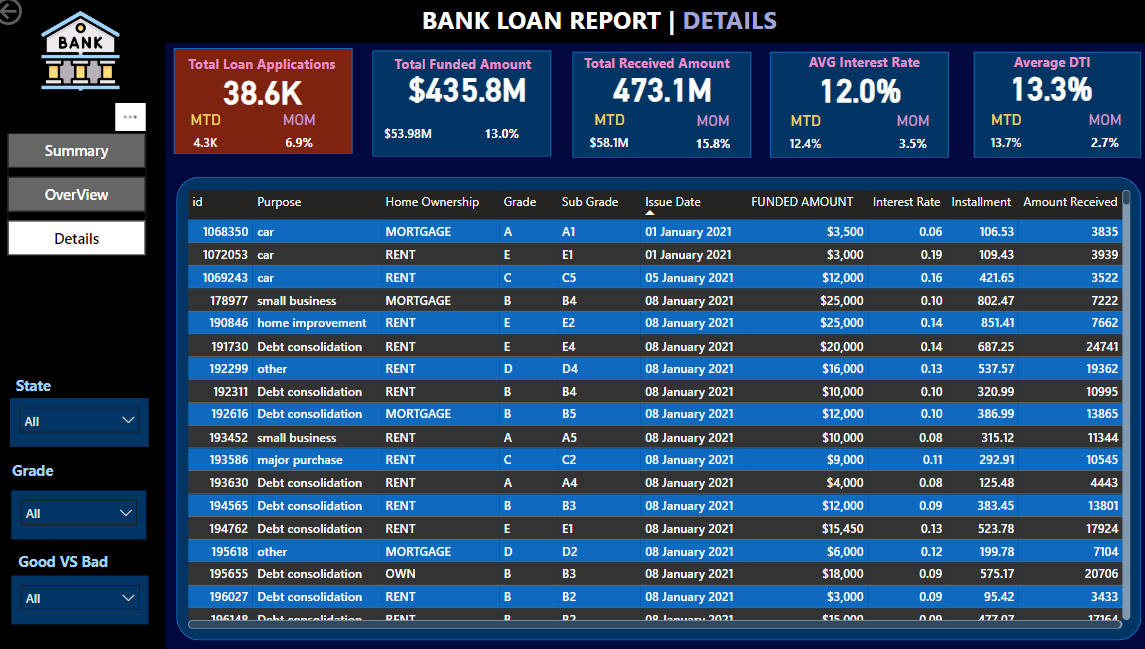

Layout of this report page (visuals, bound fields, positions):
{"tool":"powerbi","page":{"name":"Details","canvas":[1280,720],"ordinal":2},"visuals":[{"type":"shape","box":[0,0,1280.3,54.9],"z":0},{"type":"card","fields":{"Values":["Date_Table.Average DTI"]},"box":[1089.5,52,144.9,99.6],"z":0,"group":"g2"},{"type":"card","fields":{"Values":["Date_Table.Total Amount Received"]},"box":[641.6,52.9,189,98.6],"z":0,"group":"g3"},{"type":"card","fields":{"Values":["Date_Table.TOTAL FUNDED AMOUNT"]},"box":[428.6,53.6,189,98.6],"z":0,"group":"g5"},{"type":"card","fields":{"Values":["Date_Table.AVG Interest RAte"]},"box":[858.5,54.8,189,98.6],"z":0,"group":"g4"},{"type":"card","fields":{"Values":["financial_loan.Total_Loan_Applications"]},"box":[204,57.5,189,98.6],"z":0,"group":"g1"},{"type":"slicer","fields":{"Values":["financial_loan.address_state"]},"box":[21.9,443.6,152,53.4],"z":0,"group":"g11"},{"type":"slicer","fields":{"Values":["financial_loan.grade"]},"box":[23.3,545,147.9,53.4],"z":0,"group":"g10"},{"type":"textbox","box":[26,606.6,299.9,31.5],"z":0,"group":"g9"},{"type":"textbox","box":[857.7,60.1,201.3,49.3],"z":1000,"group":"g4"},{"type":"textbox","box":[1067.9,60.2,154.7,50.7],"z":1000,"group":"g2"},{"type":"textbox","box":[629.6,60.7,201.3,49.3],"z":1000,"group":"g3"},{"type":"textbox","box":[197.2,63,201.3,49.3],"z":1000,"group":"g1"},{"type":"textbox","box":[438.1,63.8,201.3,49.3],"z":1000,"group":"g5"},{"type":"shape","box":[204,201.3,1057.1,508],"z":1000},{"type":"textbox","box":[23.3,413.5,110.9,49.3],"z":1000,"group":"g11"},{"type":"textbox","box":[19.2,506.6,110.9,49.3],"z":1000,"group":"g12"},{"type":"slicer","fields":{"Values":["financial_loan.Good VS Bad Loan"]},"box":[23.3,638.1,150.6,53.4],"z":1000,"group":"g9"},{"type":"shape","box":[0,54.9,192,665],"z":2000},{"type":"card","title":"MTD","fields":{"Values":["Date_Table.MTD Amount Received"]},"box":[576.5,128.2,204,54.8],"z":2000,"group":"g3"},{"type":"card","title":"MTD","fields":{"Values":["Date_Table.MTD Avg DTI"]},"box":[1035,128.6,156.1,56.1],"z":2000,"group":"g2"},{"type":"card","title":"MTD","fields":{"Values":["Date_Table.MTD_Loan_Applications"]},"box":[134.2,128.7,204,54.8],"z":2000,"group":"g1"},{"type":"card","title":"MTD","fields":{"Values":["Date_Table.MTD FUnded Amount"]},"box":[356,128.9,204,54.8],"z":2000,"group":"g5"},{"type":"card","title":"MTD","fields":{"Values":["Date_Table.MTD Avg Interest rate"]},"box":[791.4,130.7,204,54.8],"z":2000,"group":"g4"},{"type":"textbox","box":[440.9,5.5,453.2,49.3],"z":3000},{"type":"card","title":"MOM","fields":{"Values":["Date_Table.MOM Applications"]},"box":[236.9,128.7,204,54.8],"z":3000,"group":"g1"},{"type":"card","title":"MOM","fields":{"Values":["Date_Table.MOM Funded Amount"]},"box":[458.7,128.9,204,54.8],"z":3000,"group":"g5"},{"type":"shape","box":[201.3,60.2,195.8,116.4],"z":4000},{"type":"card","title":"MOM","fields":{"Values":["Date_Table.MOM Avg DTI"]},"box":[1163.7,128.6,115,56.1],"z":4000,"group":"g2"},{"type":"card","title":"MOM","fields":{"Values":["Date_Table.MOM Amount Received"]},"box":[689.5,129.6,204,54.8],"z":4000,"group":"g3"},{"type":"card","title":"MOM","fields":{"Values":["Date_Table.MOM Avg int rate"]},"box":[909.6,130.7,204,54.8],"z":4000,"group":"g4"},{"type":"group","id":"g1","title":"Group 1","box":[134.2,57.5,306.7,126],"z":5000},{"type":"shape","box":[638.1,63.4,195.8,116.4],"z":5500,"group":"g6"},{"type":"shape","box":[1077.8,64.2,183.5,116.4],"z":5500,"group":"g8"},{"type":"shape","box":[853.8,64.8,195.8,116.4],"z":5500,"group":"g7"},{"type":"group","id":"g2","title":"Group 1","box":[1035,52,243.7,132.8],"z":6000,"group":"g8"},{"type":"group","id":"g3","title":"Group 1","box":[576.5,52.9,317,131.5],"z":6000,"group":"g6"},{"type":"group","id":"g4","title":"Group 1","box":[791.4,54.8,322.2,130.7],"z":6000,"group":"g7"},{"type":"shape","box":[419,63,195.8,116.4],"z":6000},{"type":"group","id":"g5","title":"Group 1","box":[356,53.6,306.7,130.1],"z":7000},{"type":"group","id":"g6","title":"Group 2","box":[576.5,52.9,317,131.5],"z":8000},{"type":"group","id":"g7","title":"Group 2","box":[791.4,54.8,321.8,131.5],"z":9000},{"type":"group","id":"g8","title":"Group 2","box":[1035,52,243.7,132.8],"z":10000},{"type":"actionButton","box":[0,0,100,40],"z":11000},{"type":"group","id":"g9","title":"Group 3","box":[23.3,606.6,302.6,84.9],"z":12000},{"type":"group","id":"g10","title":"Group 4","box":[23.3,545,147.9,53.4],"z":13000},{"type":"group","id":"g11","title":"Group 5","box":[21.9,413.5,152,83.5],"z":14000},{"type":"group","id":"g12","title":"Group 5","box":[19.2,506.6,110.9,49.3],"z":15000},{"type":"tableEx","fields":{"Values":["financial_loan.id","financial_loan.purpose","financial_loan.home_ownership","financial_loan.grade","financial_loan.sub_grade","financial_loan.issue_date","Date_Table.TOTAL FUNDED AMOUNT","Sum(financial_loan.int_rate)","Sum(financial_loan.installment)","Date_Table.Total Amount Received"]},"box":[210.9,210.9,1043.4,490.2],"z":16000},{"type":"image","box":[38.3,12.3,121.9,101.3],"z":17000},{"type":"pageNavigator","box":[19.2,153.4,152,135.6],"z":18000}]}

Visuals, with their boxes on the page's 1280x720 design canvas (x1, y1, x2, y2). These are canvas units, not pixel positions in the 1145x649 screenshot, which may show the page scaled, cropped or inside an application window:
shape: detection(0, 0, 1280, 55)
card - Date_Table.Average DTI: detection(1090, 52, 1234, 152)
card - Date_Table.Total Amount Received: detection(642, 53, 831, 152)
card - Date_Table.TOTAL FUNDED AMOUNT: detection(429, 54, 618, 152)
card - Date_Table.AVG Interest RAte: detection(858, 55, 1048, 153)
card - financial_loan.Total_Loan_Applications: detection(204, 58, 393, 156)
slicer - financial_loan.address_state: detection(22, 444, 174, 497)
slicer - financial_loan.grade: detection(23, 545, 171, 598)
textbox: detection(26, 607, 326, 638)
textbox: detection(858, 60, 1059, 109)
textbox: detection(1068, 60, 1223, 111)
textbox: detection(630, 61, 831, 110)
textbox: detection(197, 63, 398, 112)
textbox: detection(438, 64, 639, 113)
shape: detection(204, 201, 1261, 709)
textbox: detection(23, 414, 134, 463)
textbox: detection(19, 507, 130, 556)
slicer - financial_loan.Good VS Bad Loan: detection(23, 638, 174, 692)
shape: detection(0, 55, 192, 720)
"MTD" card: detection(576, 128, 780, 183)
"MTD" card: detection(1035, 129, 1191, 185)
"MTD" card: detection(134, 129, 338, 184)
"MTD" card: detection(356, 129, 560, 184)
"MTD" card: detection(791, 131, 995, 186)
textbox: detection(441, 6, 894, 55)
"MOM" card: detection(237, 129, 441, 184)
"MOM" card: detection(459, 129, 663, 184)
shape: detection(201, 60, 397, 177)
"MOM" card: detection(1164, 129, 1279, 185)
"MOM" card: detection(690, 130, 894, 184)
"MOM" card: detection(910, 131, 1114, 186)
"Group 1" group: detection(134, 58, 441, 184)
shape: detection(638, 63, 834, 180)
shape: detection(1078, 64, 1261, 181)
shape: detection(854, 65, 1050, 181)
"Group 1" group: detection(1035, 52, 1279, 185)
"Group 1" group: detection(576, 53, 894, 184)
"Group 1" group: detection(791, 55, 1114, 186)
shape: detection(419, 63, 615, 179)
"Group 1" group: detection(356, 54, 663, 184)
"Group 2" group: detection(576, 53, 894, 184)
"Group 2" group: detection(791, 55, 1113, 186)
"Group 2" group: detection(1035, 52, 1279, 185)
actionButton: detection(0, 0, 100, 40)
"Group 3" group: detection(23, 607, 326, 692)
"Group 4" group: detection(23, 545, 171, 598)
"Group 5" group: detection(22, 414, 174, 497)
"Group 5" group: detection(19, 507, 130, 556)
tableEx - financial_loan.id x financial_loan.purpose: detection(211, 211, 1254, 701)
image: detection(38, 12, 160, 114)
pageNavigator: detection(19, 153, 171, 289)
